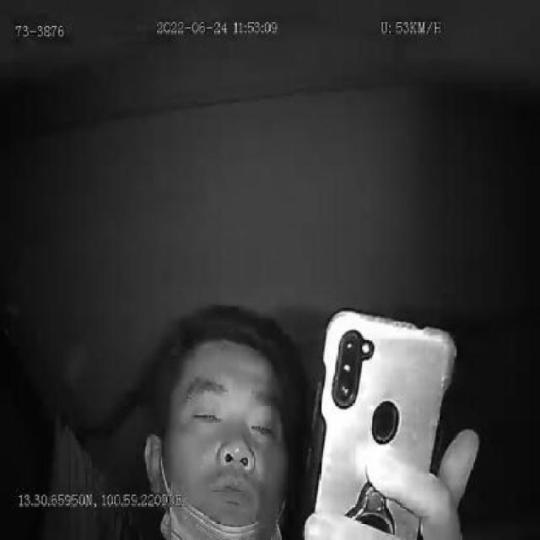phone: (315, 307, 457, 540)
